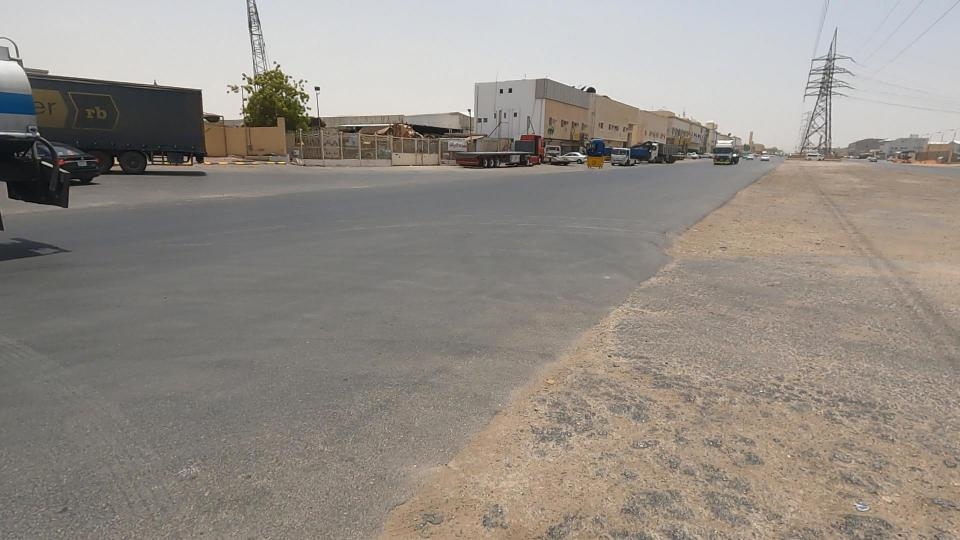CONSTRUCTION_ROAD: (648, 115, 960, 345)
